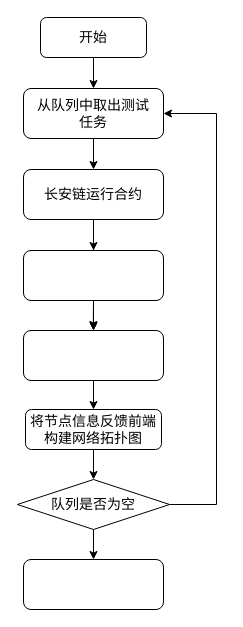
The diagram is 243 pixels wide and 627 high, and some of its shapes have lost their labels. Here are the shapes that lost their labels. From the top down, the centre of each, then its label:
At (x=93, y=275): "tcpdump抓取特定 端口流量".
At (x=93, y=355): "gopacket解析流量 得到节点信息".
At (x=93, y=584): "结束".
